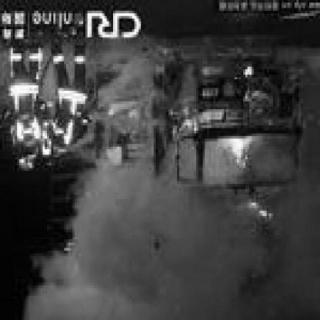Fire: (252, 202, 272, 224), (105, 150, 122, 172), (108, 106, 120, 126)
Smoke: (78, 228, 302, 316)
other: (4, 13, 96, 171)
